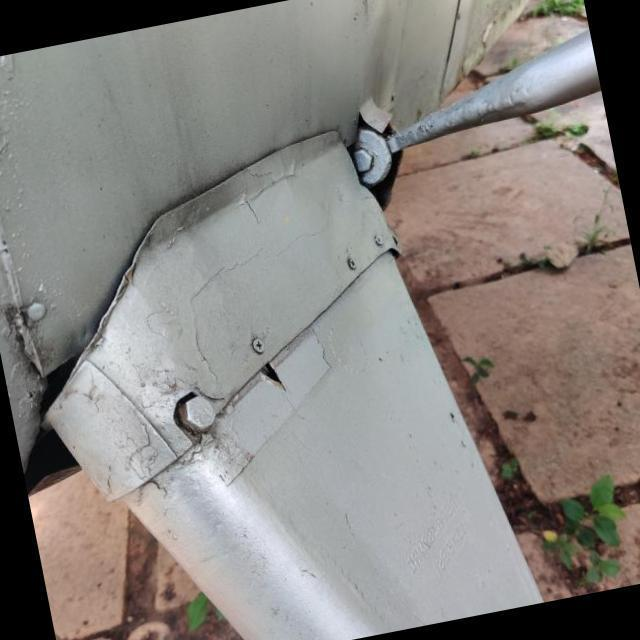Rupture: (224, 325, 310, 420)
